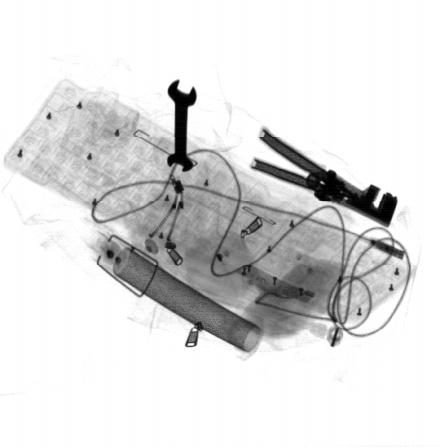Pliers: (250, 127, 401, 231)
Wrench: (167, 79, 197, 172)
